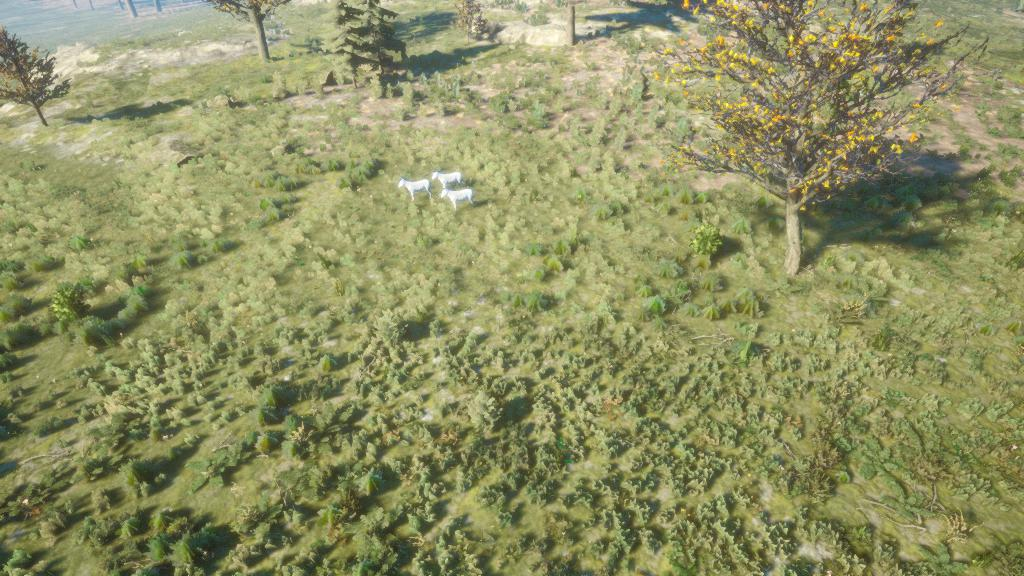zebra: (396, 176, 435, 204), (437, 187, 477, 213), (428, 169, 466, 192)
